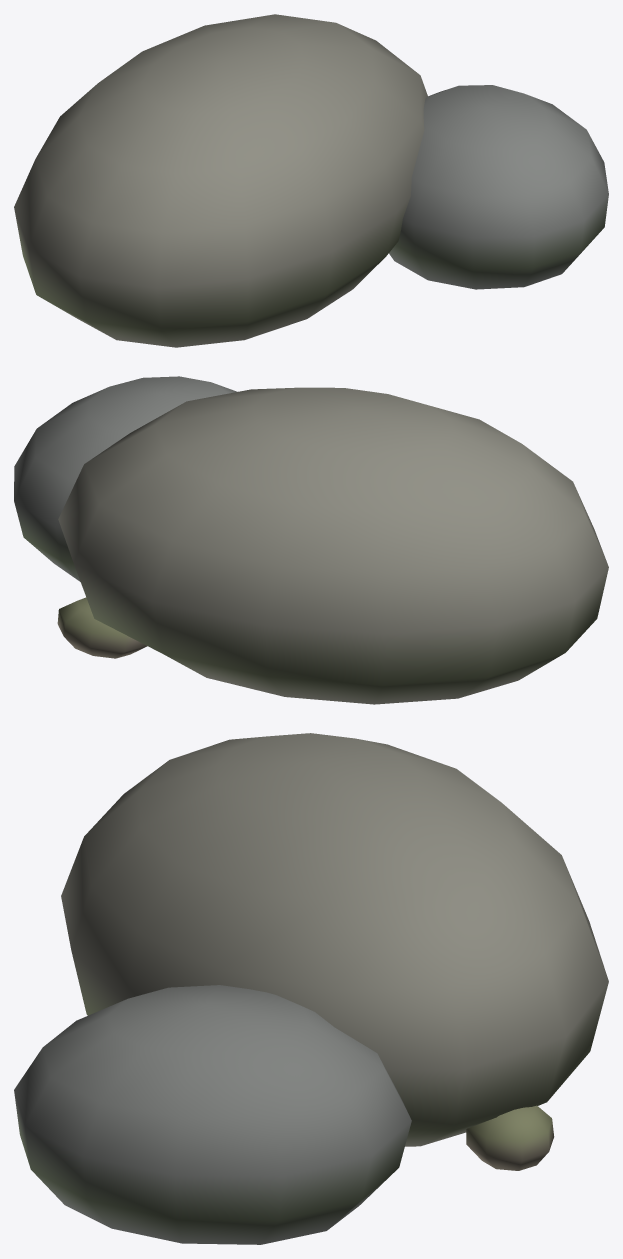
Rendered from river-stones-b.glb.
3 views of the same model, one above another, from view 1: azimuth 30°, elevation 25°; view 2: azimuth 150°, elevation 25°; view 3: azimuth 270°, elevation 25° (orthographic). The views are drawn at different scales.
Parts seen in each view (by area): view 1: river-stones-b; view 2: river-stones-b; view 3: river-stones-b.
Part boxes in pixels (<box>): river-stones-b: <box>14,14,608,347</box>; river-stones-b: <box>14,376,608,704</box>; river-stones-b: <box>14,733,608,1244</box>.
Size of the model in its own units: 1.31 by 0.516 by 0.9325.
